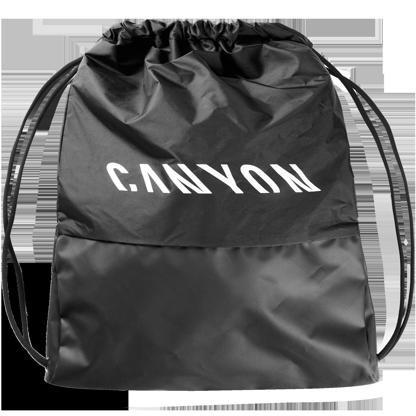not trash: (0, 7, 416, 395)
